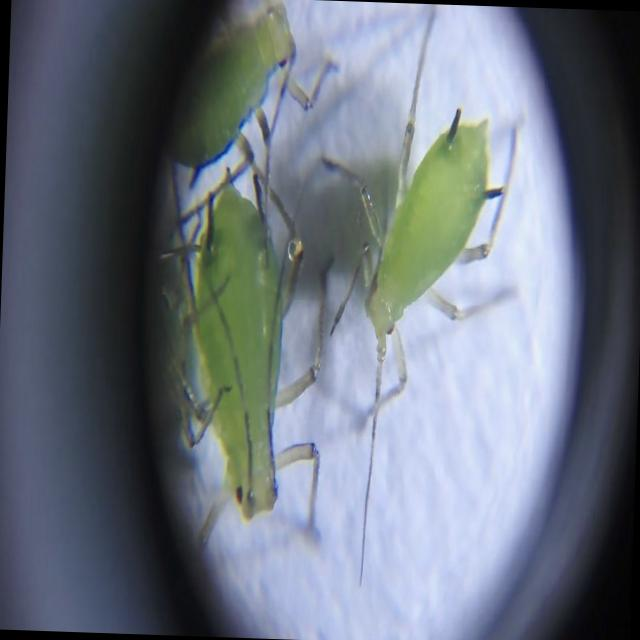Aphids: (328, 70, 530, 516), (152, 166, 324, 564), (154, 0, 341, 180)
